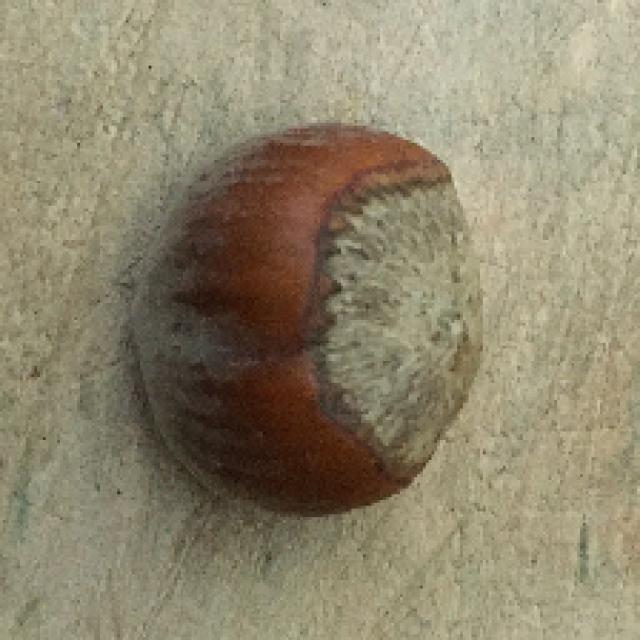QualityHazelnut: (121, 115, 484, 520)
